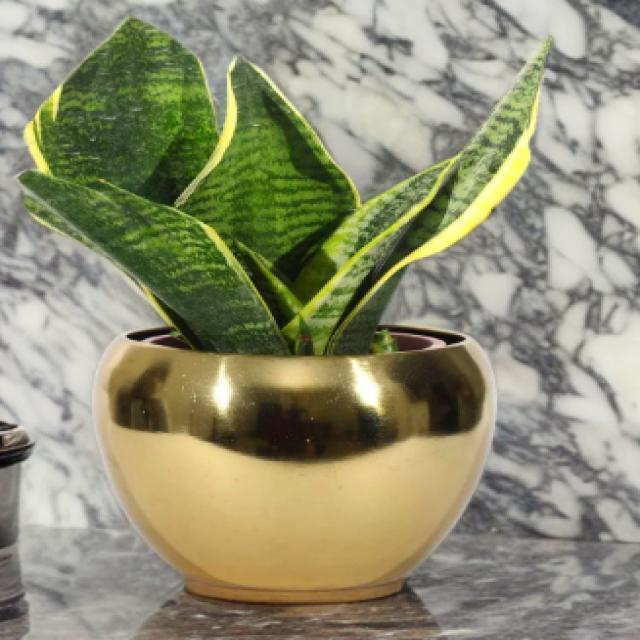Plant Pot: (84, 302, 542, 616)
